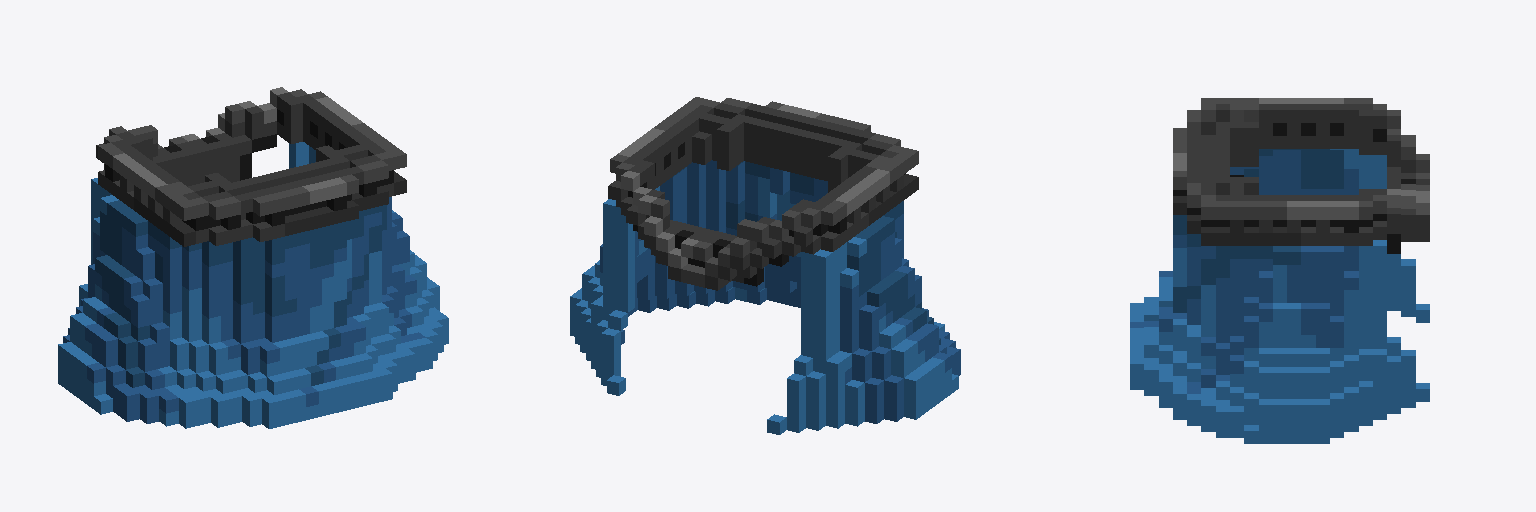
3 views of the same model, side by side, from view 1: azimuth 30°, elevation 25°; view 2: azimuth 150°, elevation 25°; view 3: azimuth 270°, elevation 25° (orthographic).
Parts seen in each view (by area): view 1: object 1; view 2: object 1; view 3: object 1.
Boxes of the visible parts, <box> form: object 1: <box>58,87,448,428</box>; object 1: <box>570,97,960,434</box>; object 1: <box>1130,98,1429,443</box>.
Size of the model in its own units: 2.8 by 1.6 by 2.1.
Materials: 1 (1 with a texture image).